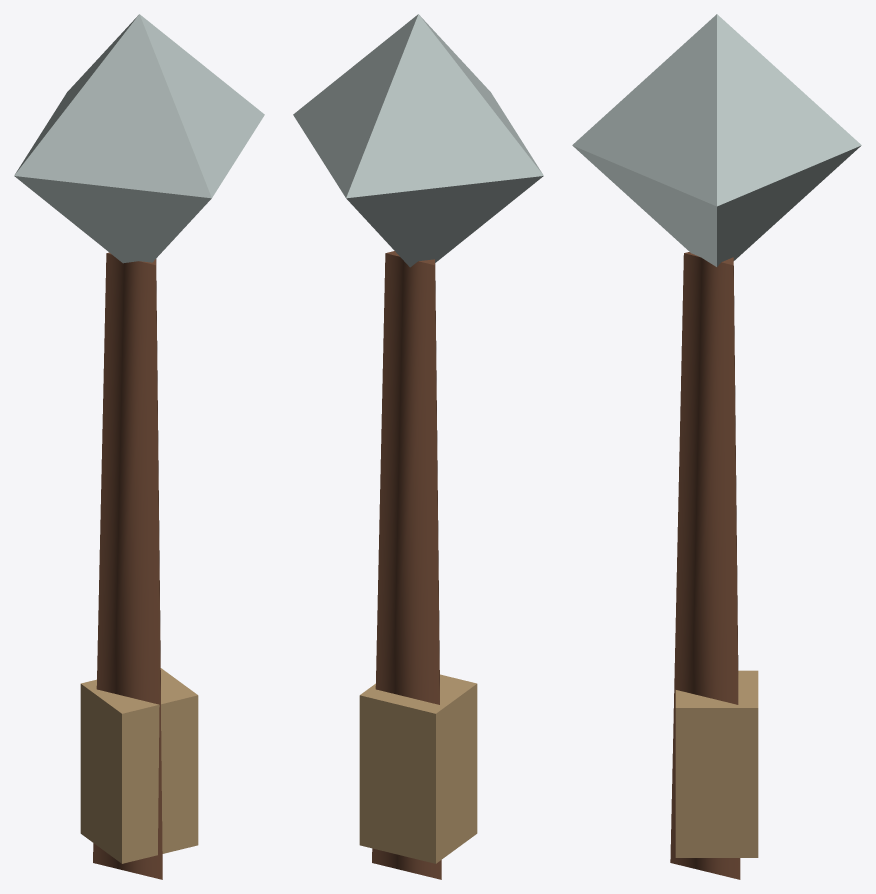
File: wand-2-lod2.glb
3 views of the same model, side by side, from view 1: azimuth 30°, elevation 25°; view 2: azimuth 150°, elevation 25°; view 3: azimuth 270°, elevation 25° (orthographic).
Parts seen in each view (by area): view 1: piece_whole; view 2: piece_whole; view 3: piece_whole.
Boxes of the visible parts, bbox=[...] form: piece_whole: bbox=[14, 14, 264, 879]; piece_whole: bbox=[293, 14, 543, 879]; piece_whole: bbox=[572, 14, 861, 879].
Size of the model in its own units: 0.28 by 0.905 by 0.28.
